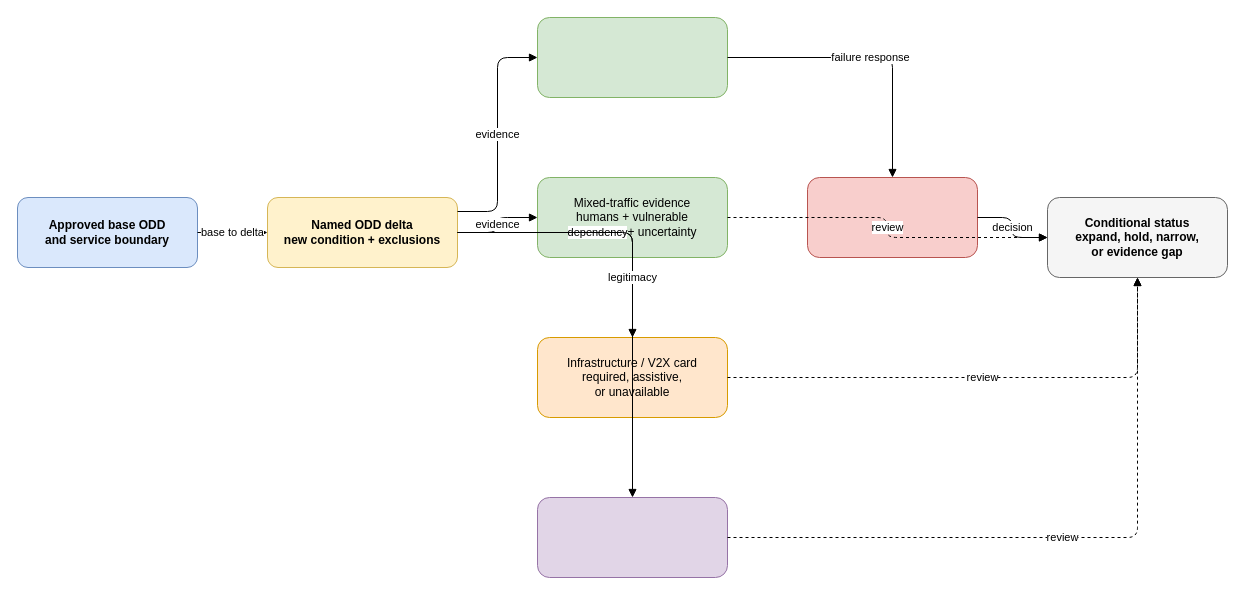
This 1245x595 diagram has some shape labels left out. Each missing label, with the centre of its shape:
Public/governance card privacy, responsibility, accessibility, redress: [632,537]
Safe-state and recovery policy: [892,217]
Technical assurance perception, planning, health/degradation: [632,57]
